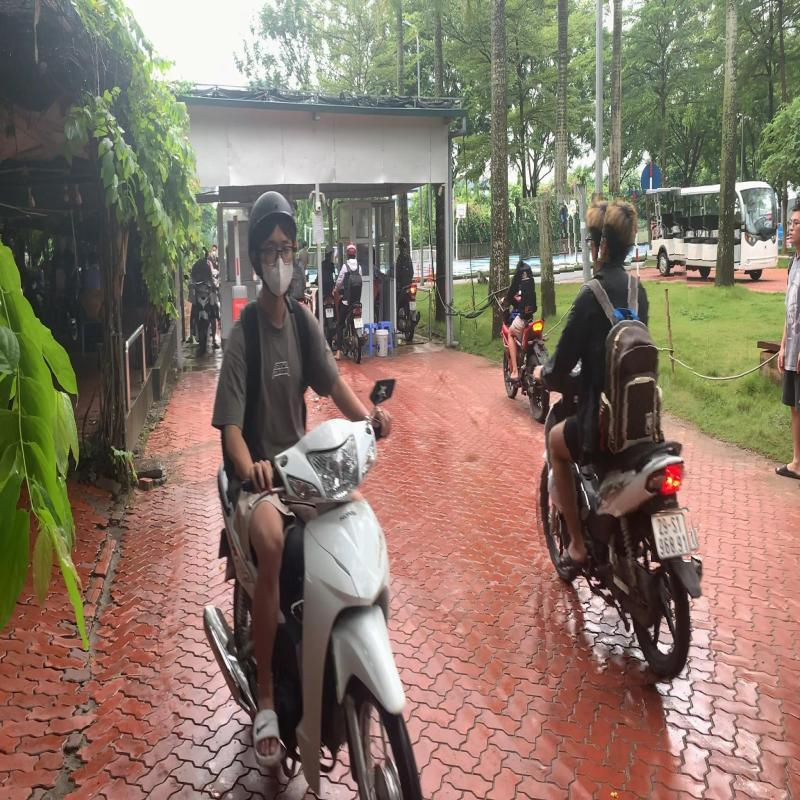licenseplate: (651, 512, 691, 562)
motorcyclist: (524, 190, 706, 689)
nohelmet: (600, 196, 640, 265)
